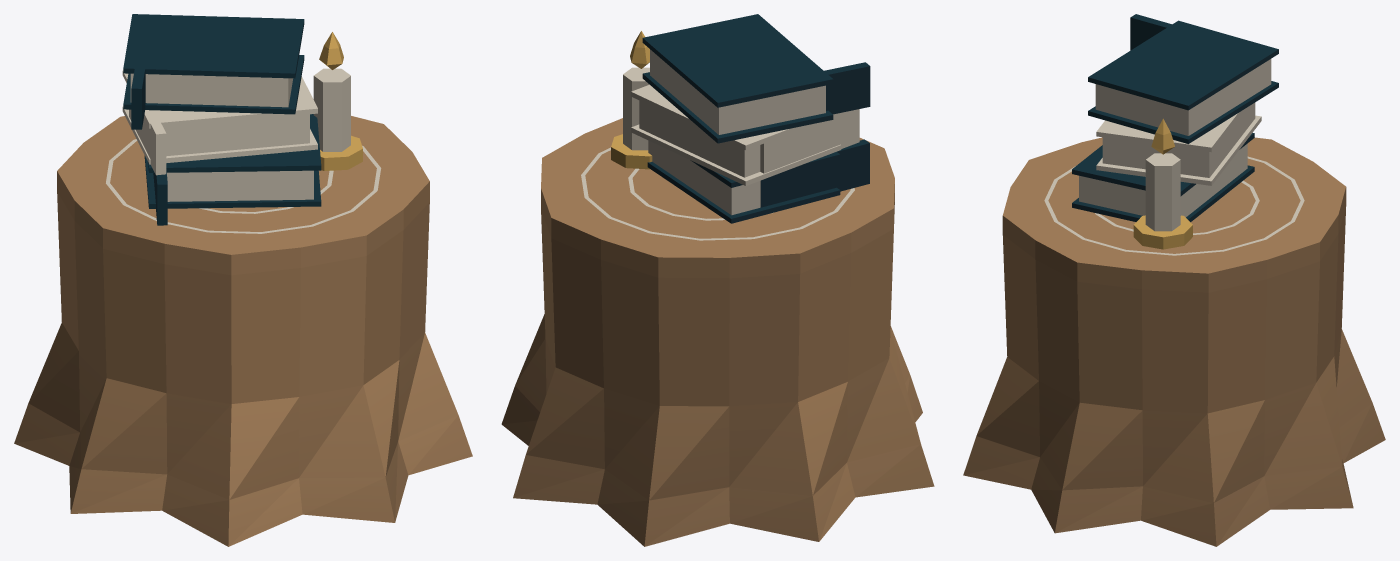
Rendered from book-stack.glb.
The picture shows the model from 3 angles, left to right: view 1: azimuth 30°, elevation 25°; view 2: azimuth 150°, elevation 25°; view 3: azimuth 270°, elevation 25°; orthographic projection. The views are drawn at different scales.
Parts seen in each view (by area): view 1: root_mesh, pulse_mesh; view 2: root_mesh; view 3: root_mesh, pulse_mesh.
Part boxes in pixels (x1,y1,x2,y2): root_mesh: (14,14,472,546); pulse_mesh: (319,32,343,69); root_mesh: (501,14,934,546); root_mesh: (963,14,1385,546); pulse_mesh: (1151,118,1174,154).
Bounding box in the file's own units: 1 × 1 × 1.
